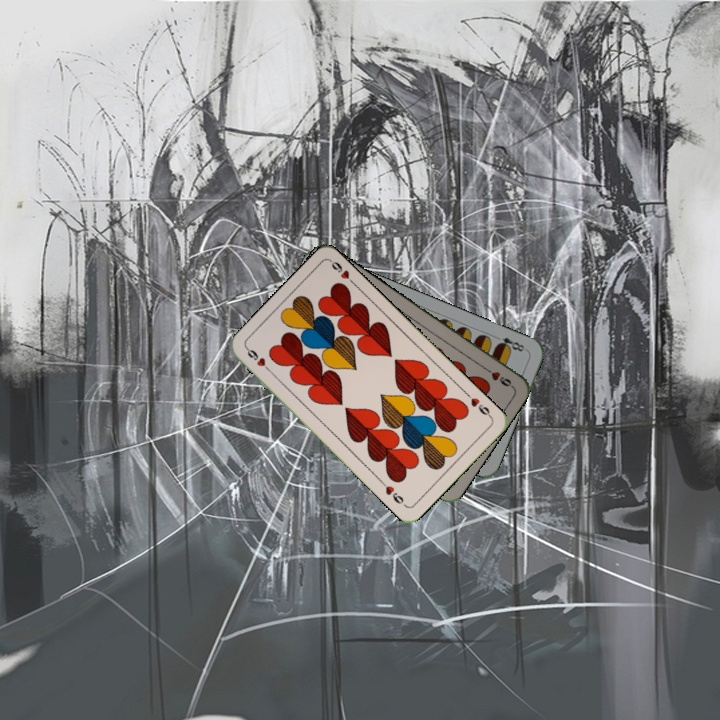E8: (491, 332, 529, 354)
H9: (242, 344, 275, 376), (462, 389, 494, 421), (479, 363, 515, 390)
